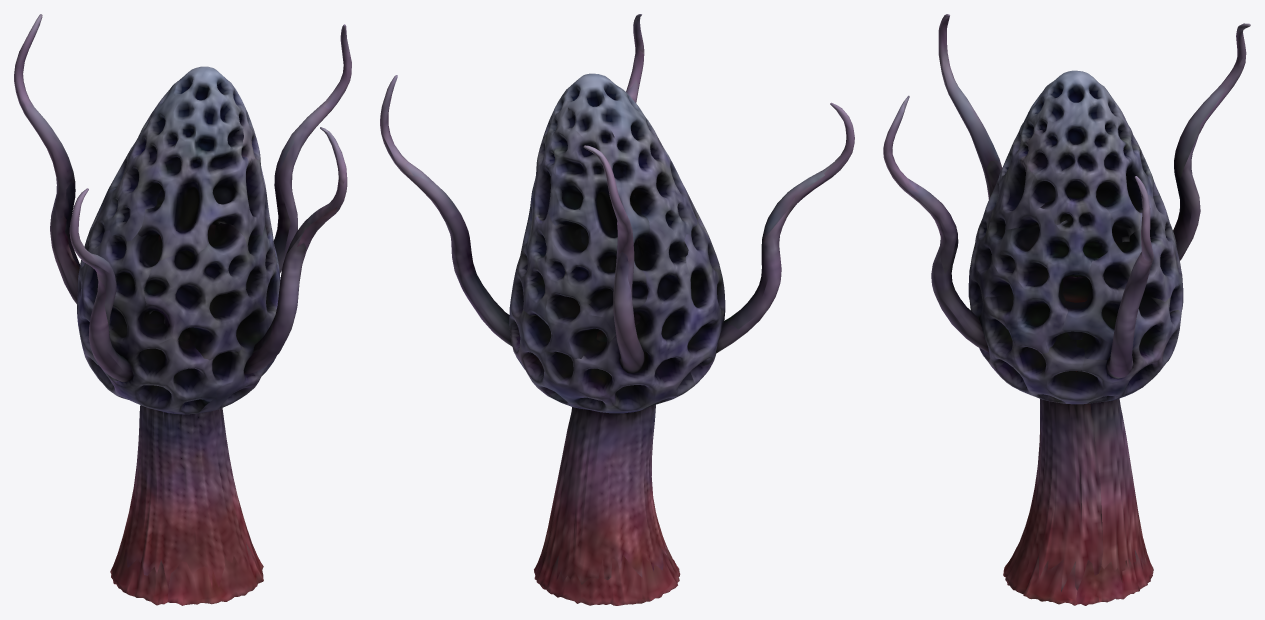
File: MZ4250 - Violet Fungus_2025.glb
The picture shows the model from 3 angles, left to right: view 1: azimuth 30°, elevation 25°; view 2: azimuth 150°, elevation 25°; view 3: azimuth 270°, elevation 25°; orthographic projection. The views are drawn at different scales.
Visible parts, largest first — view 1: ORGANIC BASE SPHERE.001; view 2: ORGANIC BASE SPHERE.001; view 3: ORGANIC BASE SPHERE.001.
Boxes of the visible parts, x1,y1,x2,y2 form: ORGANIC BASE SPHERE.001: (14, 14, 351, 605); ORGANIC BASE SPHERE.001: (380, 14, 854, 605); ORGANIC BASE SPHERE.001: (883, 14, 1250, 605).
Bounding box in the file's own units: 65.86 × 85.56 × 54.4.
1 material, 1 textured.
